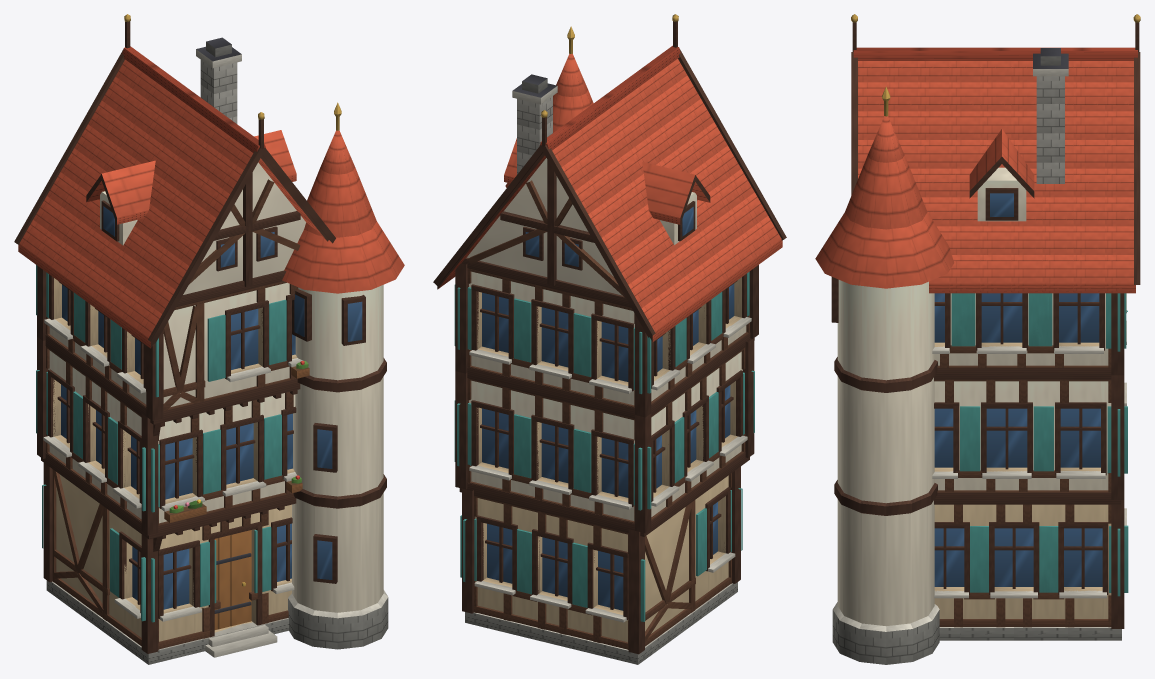
File: res_house_turret_01.glb
3 views of the same model, side by side, from view 1: azimuth 30°, elevation 25°; view 2: azimuth 150°, elevation 25°; view 3: azimuth 270°, elevation 25° (orthographic). The views are drawn at different scales.
Parts seen in each view (by area): view 1: res_house_turret_01; view 2: res_house_turret_01; view 3: res_house_turret_01.
Boxes of the visible parts, x1=… form: res_house_turret_01: x1=14, y1=14, x2=404, y2=664; res_house_turret_01: x1=433, y1=14, x2=786, y2=664; res_house_turret_01: x1=815, y1=14, x2=1140, y2=664.
Bounding box in the file's own units: 7.88 × 15.83 × 8.03.
1 material, 1 textured.
